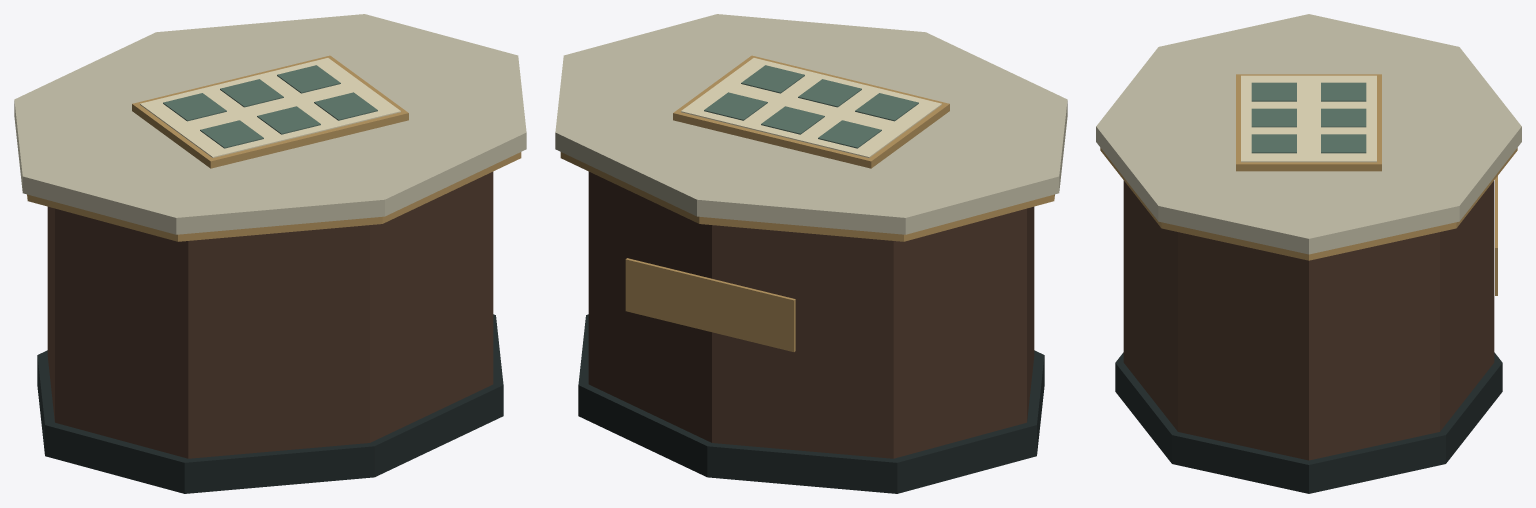
The model's file is LP_Central_InformationIsland.fbx.
The picture shows the model from 3 angles, left to right: view 1: azimuth 30°, elevation 25°; view 2: azimuth 150°, elevation 25°; view 3: azimuth 270°, elevation 25°; orthographic projection. The views are drawn at different scales.
Visible parts, largest first — view 1: Walnut, M_Central_Limestone, Charcoal, WarmIvory, AgedBrass, SageUpholstery; view 2: Walnut, M_Central_Limestone, Charcoal, AgedBrass, WarmIvory, SageUpholstery; view 3: Walnut, M_Central_Limestone, Charcoal, WarmIvory, SageUpholstery, AgedBrass.
Part boxes in pixels (x1,y1,x2,y2): Walnut: [47, 172, 493, 458]; M_Central_Limestone: [14, 14, 526, 234]; Charcoal: [37, 314, 503, 493]; WarmIvory: [140, 58, 400, 157]; AgedBrass: [27, 55, 521, 241]; SageUpholstery: [163, 65, 377, 148]; Walnut: [588, 172, 1034, 458]; M_Central_Limestone: [555, 14, 1067, 234]; Charcoal: [578, 314, 1044, 493]; AgedBrass: [560, 55, 1054, 351]; WarmIvory: [681, 58, 941, 157]; SageUpholstery: [704, 65, 918, 148]; Walnut: [1123, 180, 1494, 460]; M_Central_Limestone: [1096, 14, 1521, 254]; Charcoal: [1115, 352, 1502, 493]; WarmIvory: [1241, 75, 1376, 162]; SageUpholstery: [1251, 82, 1366, 153]; AgedBrass: [1100, 74, 1517, 295].
Bounding box in the file's own units: 200 × 114 × 160.
